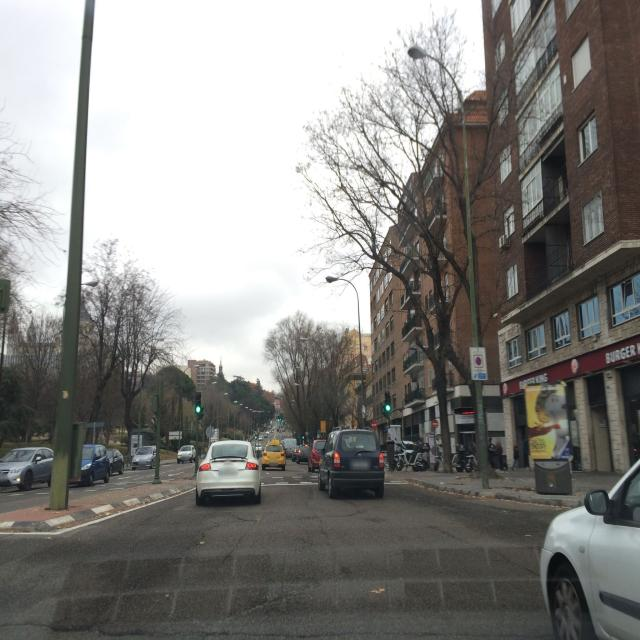forb_stopping: (475, 356, 481, 366)
